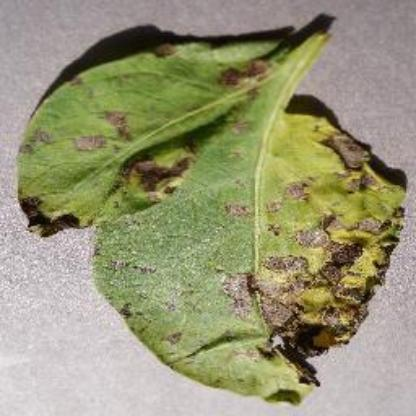Early-Blight: (91, 32, 413, 404), (14, 17, 284, 245)
